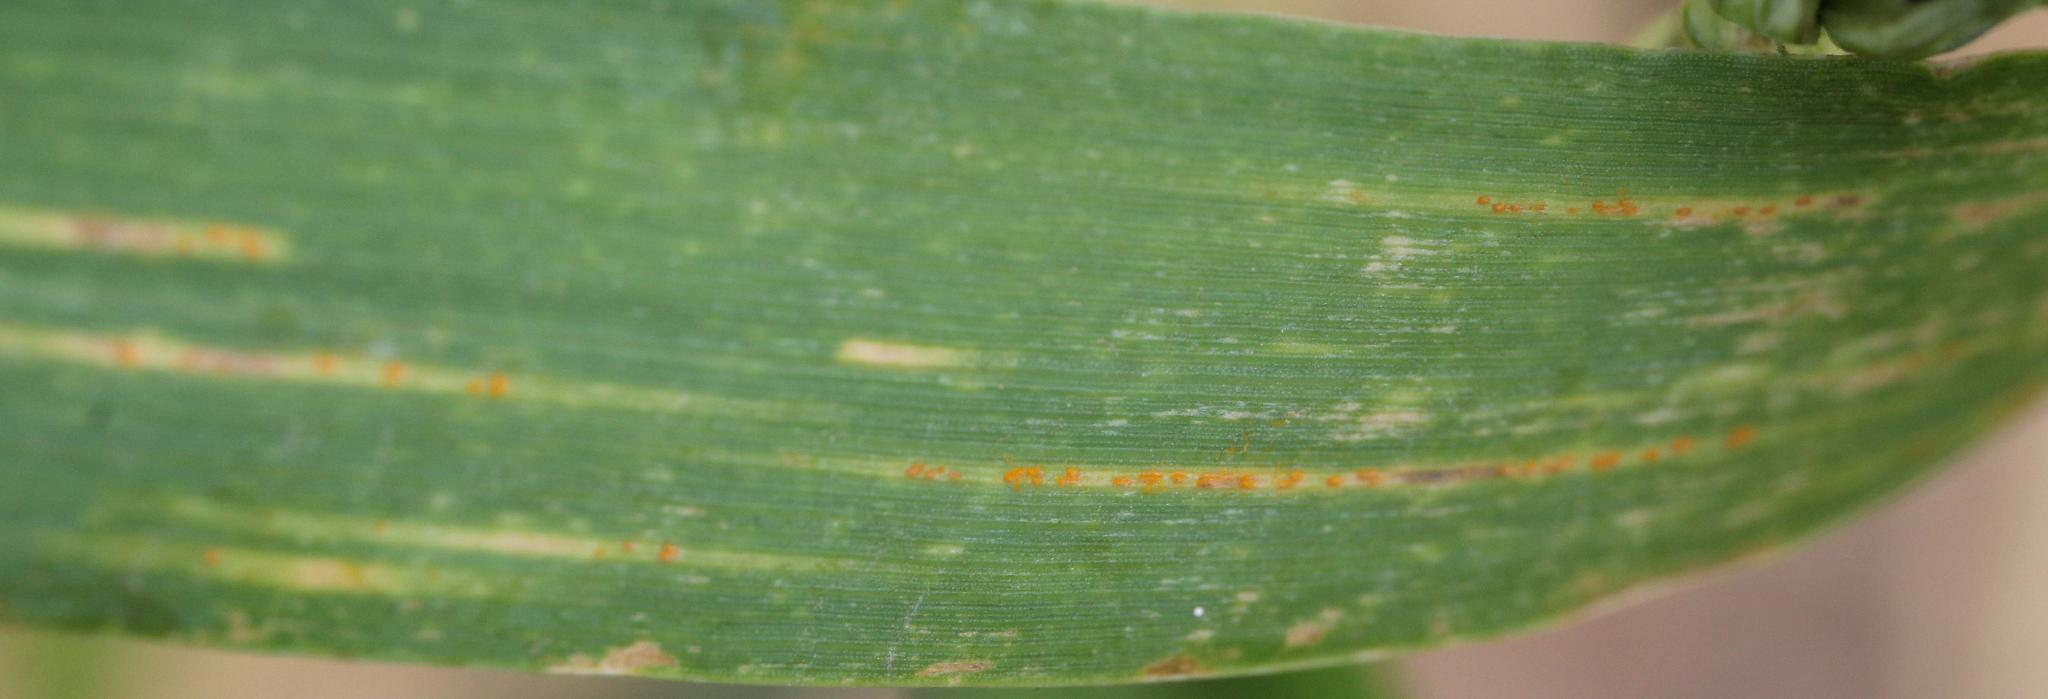Wheat: (871, 408, 1527, 508), (1473, 169, 1893, 242)
